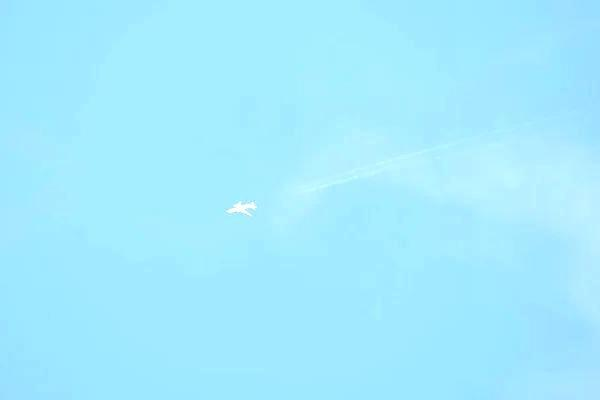Plane: (209, 195, 270, 224)
